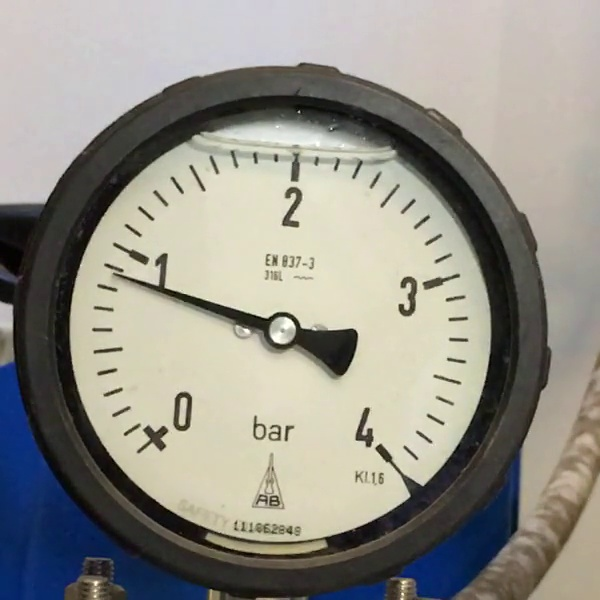base: (264, 311, 299, 350)
circle_plate: (69, 129, 494, 554)
maximum: (373, 443, 394, 462)
minimum: (142, 423, 169, 452)
number: (280, 184, 304, 229), (169, 390, 193, 434), (396, 273, 419, 317), (353, 405, 375, 449), (151, 250, 169, 289)
tip: (110, 270, 117, 277)
